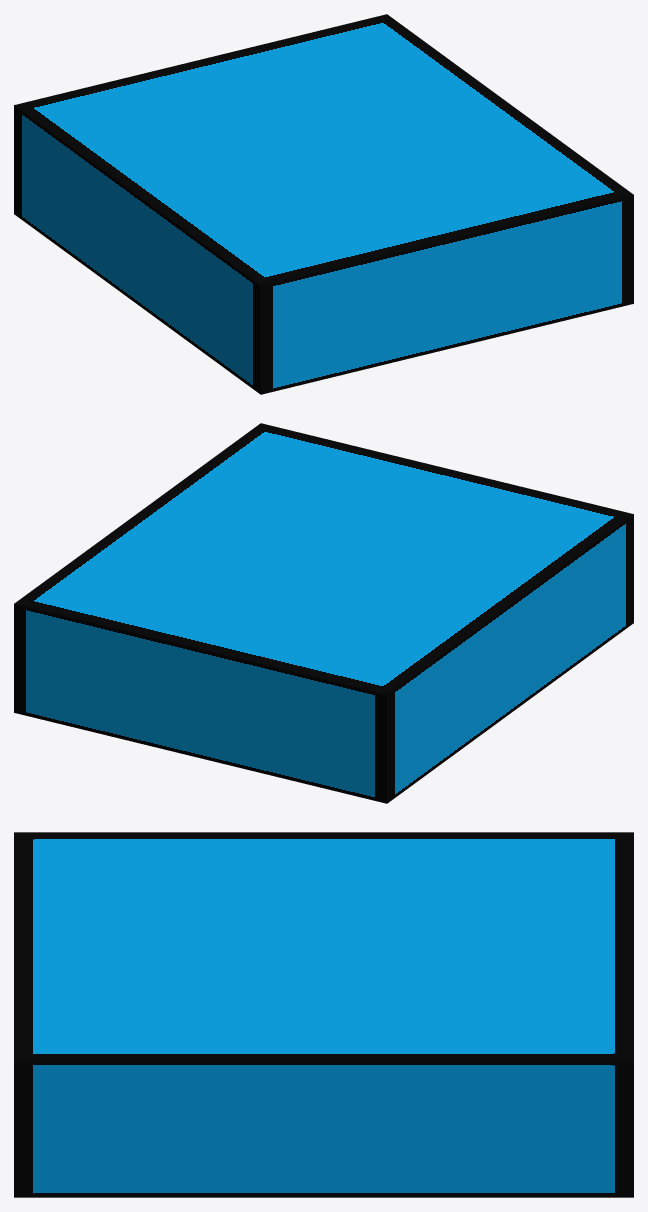
Rendered from Ugokuyuka_yoko.FBX.
The picture shows the model from 3 angles, top to bottom: view 1: azimuth 30°, elevation 25°; view 2: azimuth 150°, elevation 25°; view 3: azimuth 270°, elevation 25°; orthographic projection. The views are drawn at different scales.
Parts seen in each view (by area): view 1: Box001; view 2: Box001; view 3: Box001.
Part boxes in pixels (x1,y1,x2,y2): Box001: [14, 14, 633, 394]; Box001: [14, 423, 633, 803]; Box001: [14, 832, 633, 1197].
Bounding box in the file's own units: 11974 × 13722 × 3341.
Materials: 1 (1 with a texture image).
